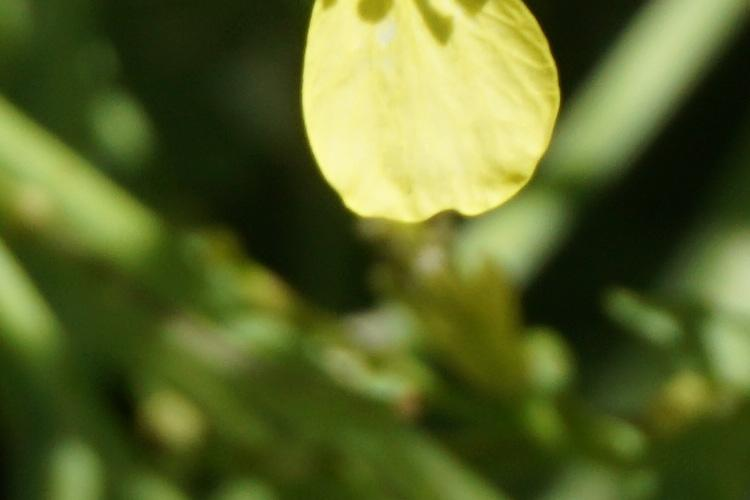yellow: (298, 3, 552, 233)
